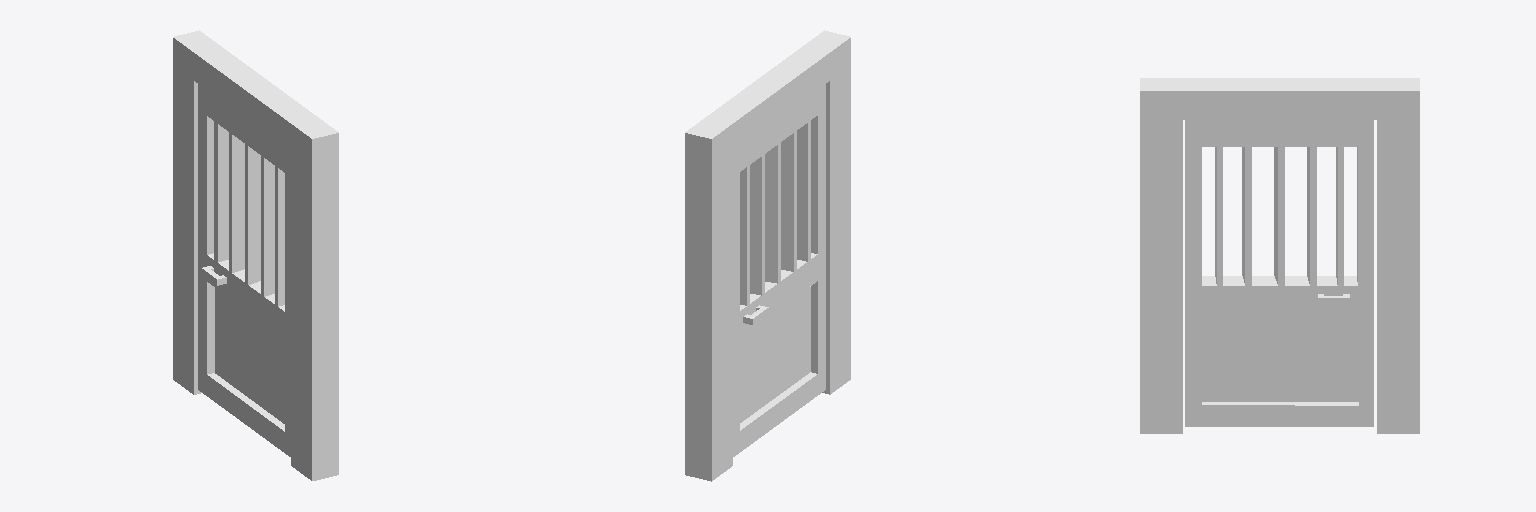
The model's file is doorWithFrame.obj.
3 renders of one model, left to right at view 1: azimuth 30°, elevation 25°; view 2: azimuth 150°, elevation 25°; view 3: azimuth 270°, elevation 25°, orthographic.
Visible parts, largest first — view 1: Cube.001_Cube, Cube_Cube.003; view 2: Cube.001_Cube, Cube_Cube.003; view 3: Cube_Cube.003, Cube.001_Cube.
Part boxes in pixels (x1,y1,x2,y2): Cube.001_Cube: (173, 30, 338, 480); Cube_Cube.003: (198, 84, 290, 456); Cube.001_Cube: (685, 30, 850, 481); Cube_Cube.003: (733, 84, 825, 456); Cube_Cube.003: (1185, 120, 1373, 426); Cube.001_Cube: (1140, 78, 1419, 433).
Bounding box in the file's own units: 0.2046 × 1.71 × 1.26.